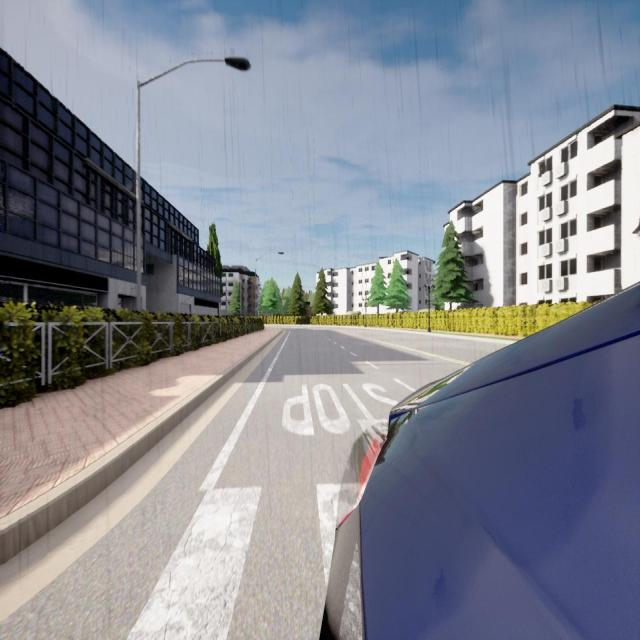Vehicle: (326, 284, 640, 638)
